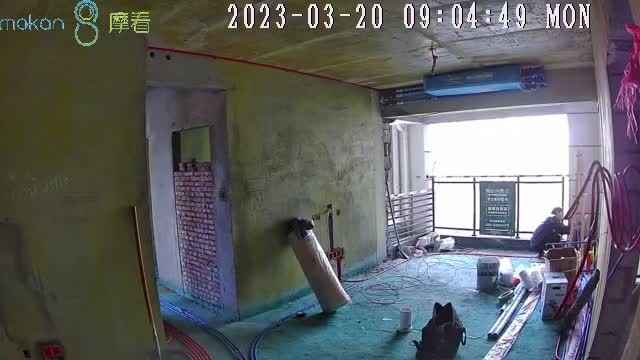people: (528, 206, 570, 257)
window: (426, 115, 569, 242)
